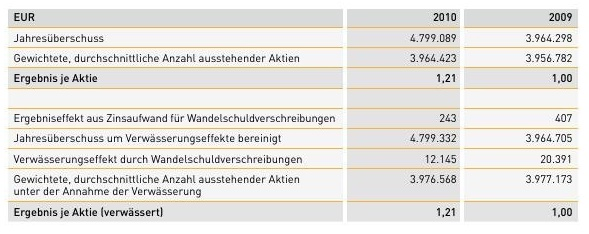table: (0, 0, 589, 234)
